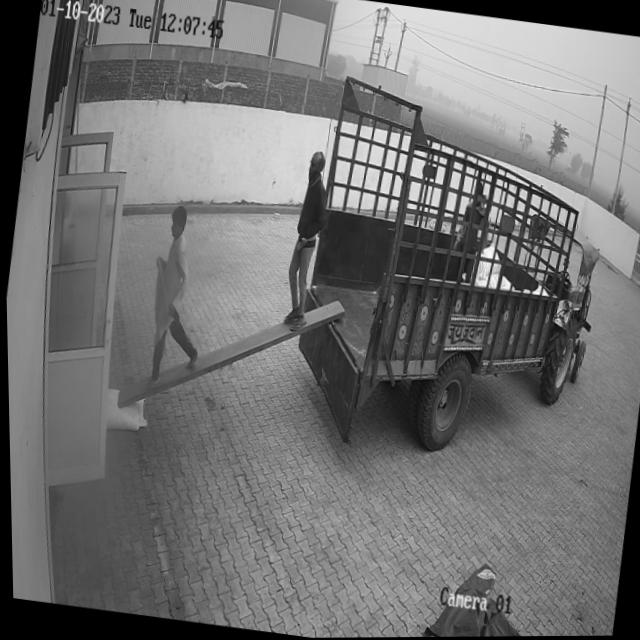sack: (100, 387, 151, 432)
